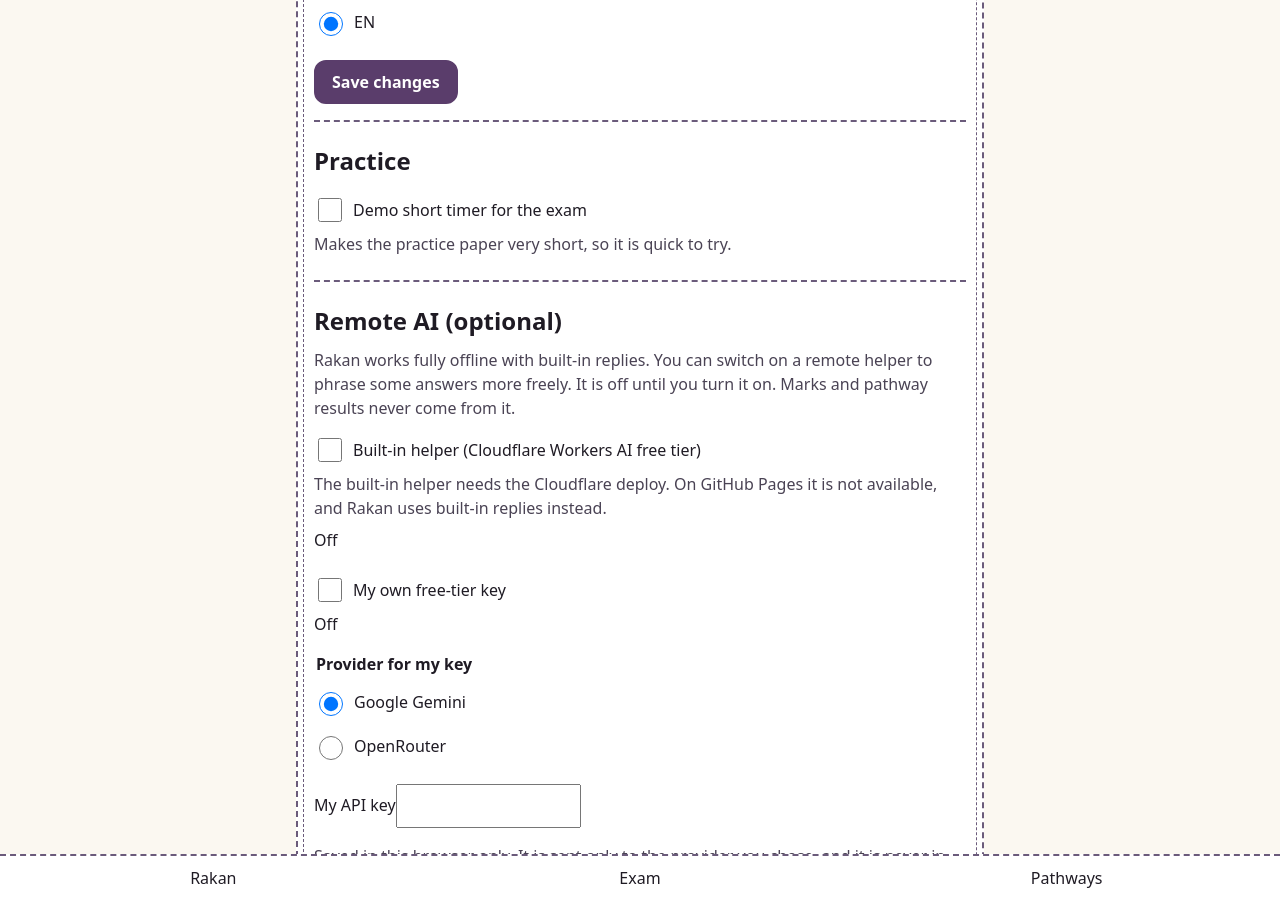
Test: remote AI consent UI › dismiss leaves the provider disabled with no consent
Later steps or results of the test are not shown.
(page scrolled)
What coordinates should you click on to do the following:
click the checkbox labelled "Built-in helper (Cloudflare Workers AI free tier)"
I would click on:
 (330, 450)
Its box is 318,438 -> 342,462.
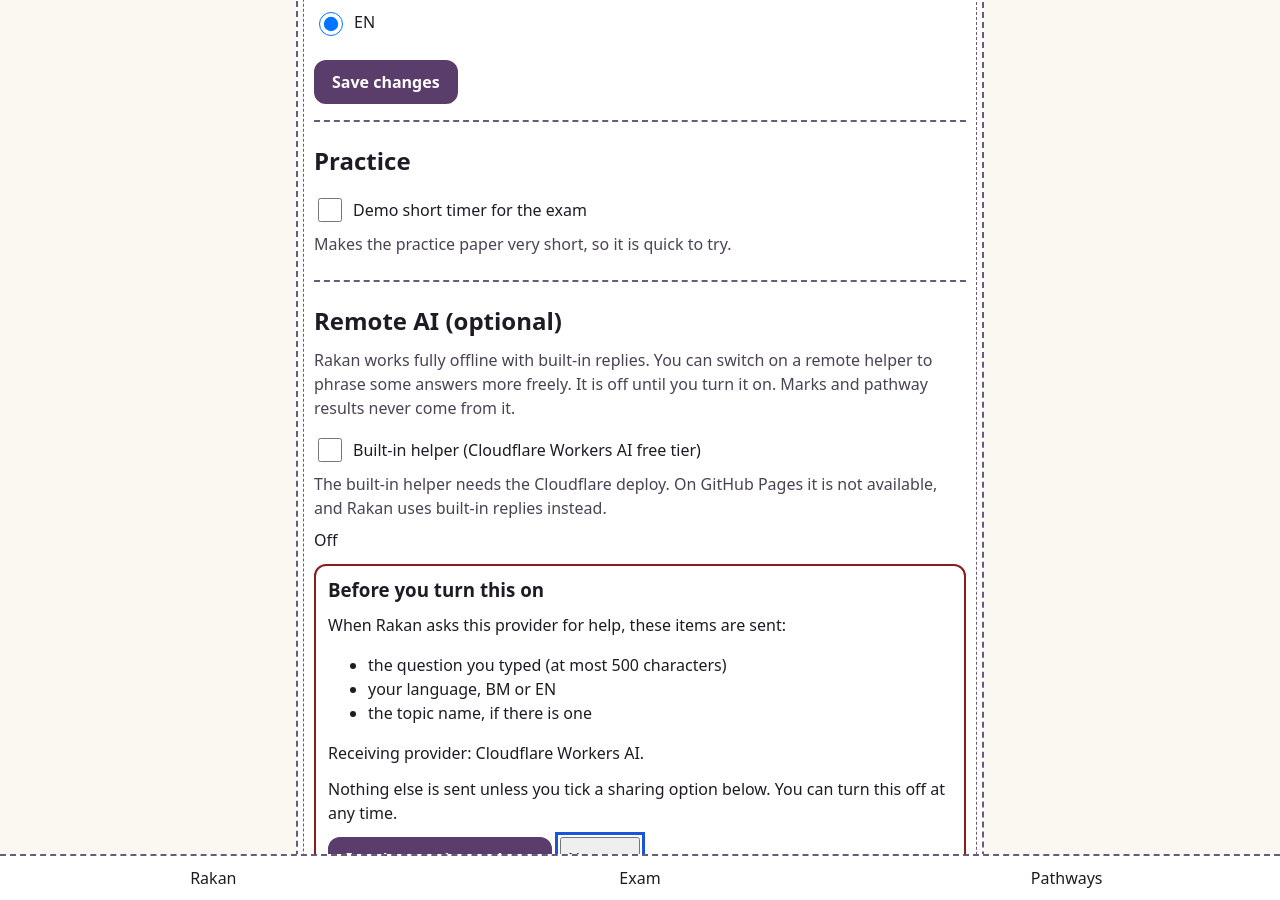
expect the list item "the question you typed (at most 500 characters)" is shown: met, box 368,654 -> 726,676
expect the text "Receiving provider: Cloudflare Workers AI." is shown: met, box 328,742 -> 644,764
